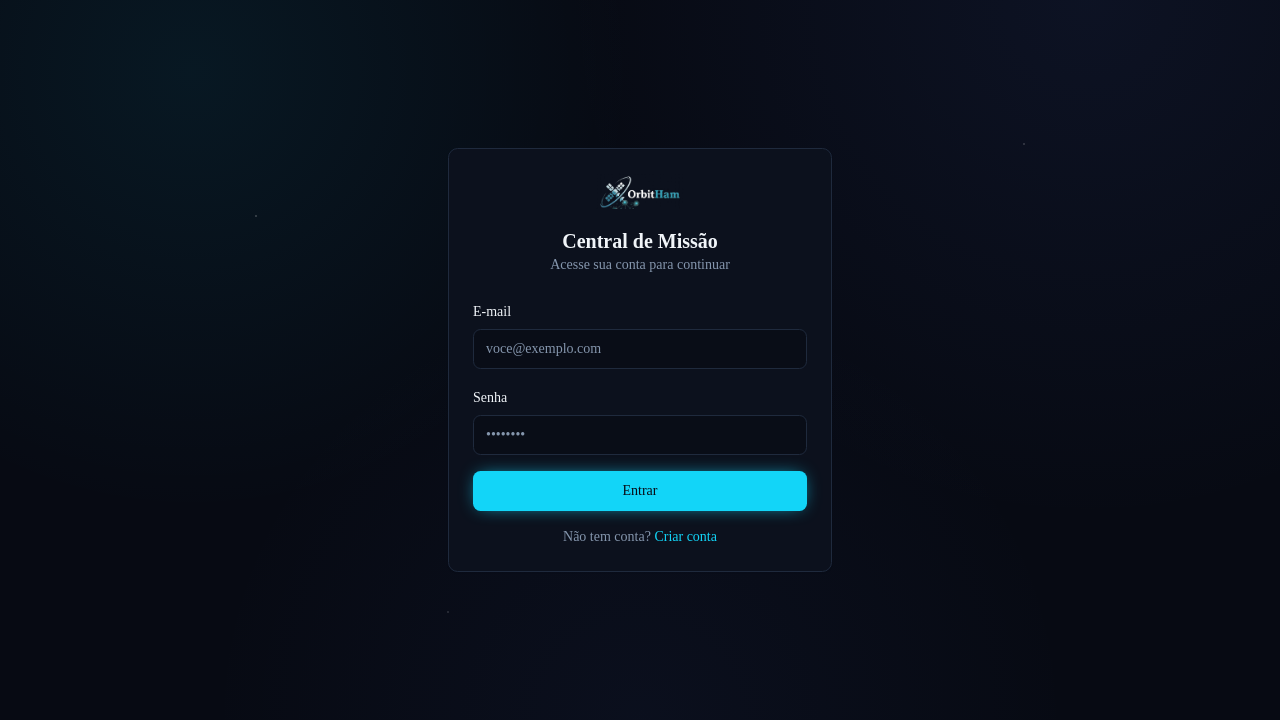
Test case: LoginPage › displays an error message when login fails
Step 1. Type "a@b.com" into the field labelled "E-mail" → (640, 349), box [473,329,807,369]
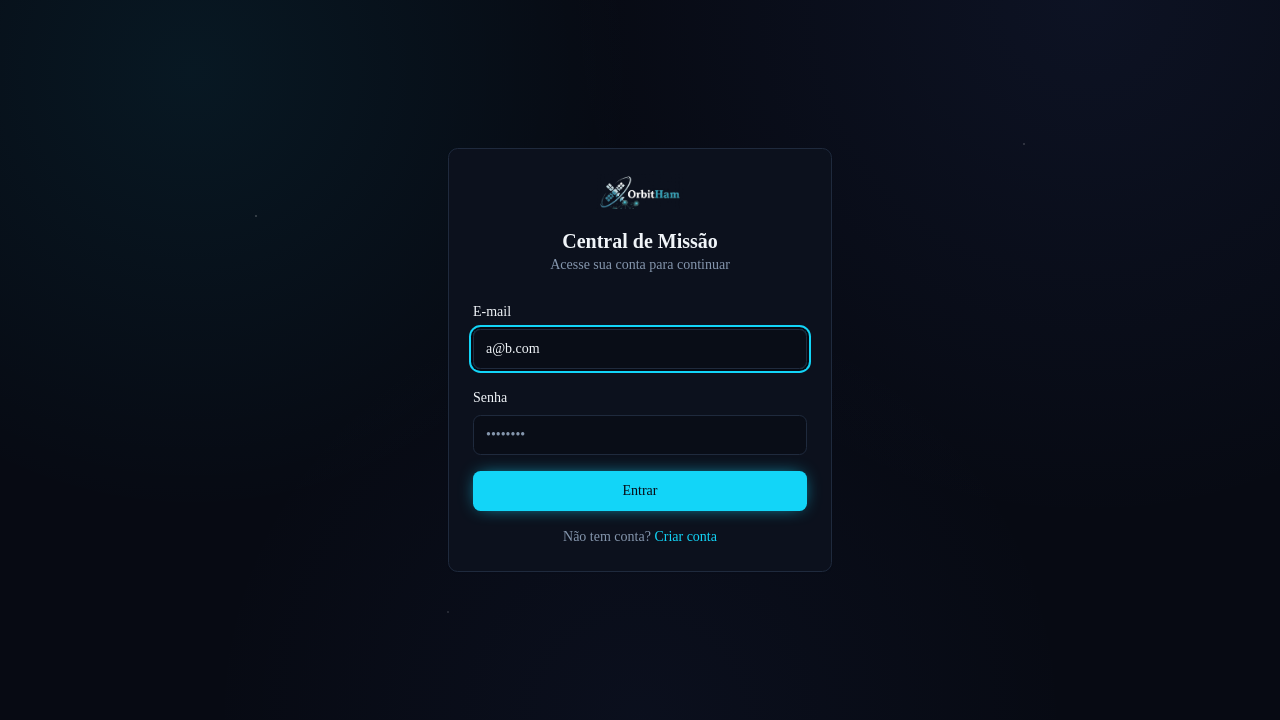
Step 2. Type "wrong" into the password field labelled "Senha" → (640, 435), box [473,415,807,455]
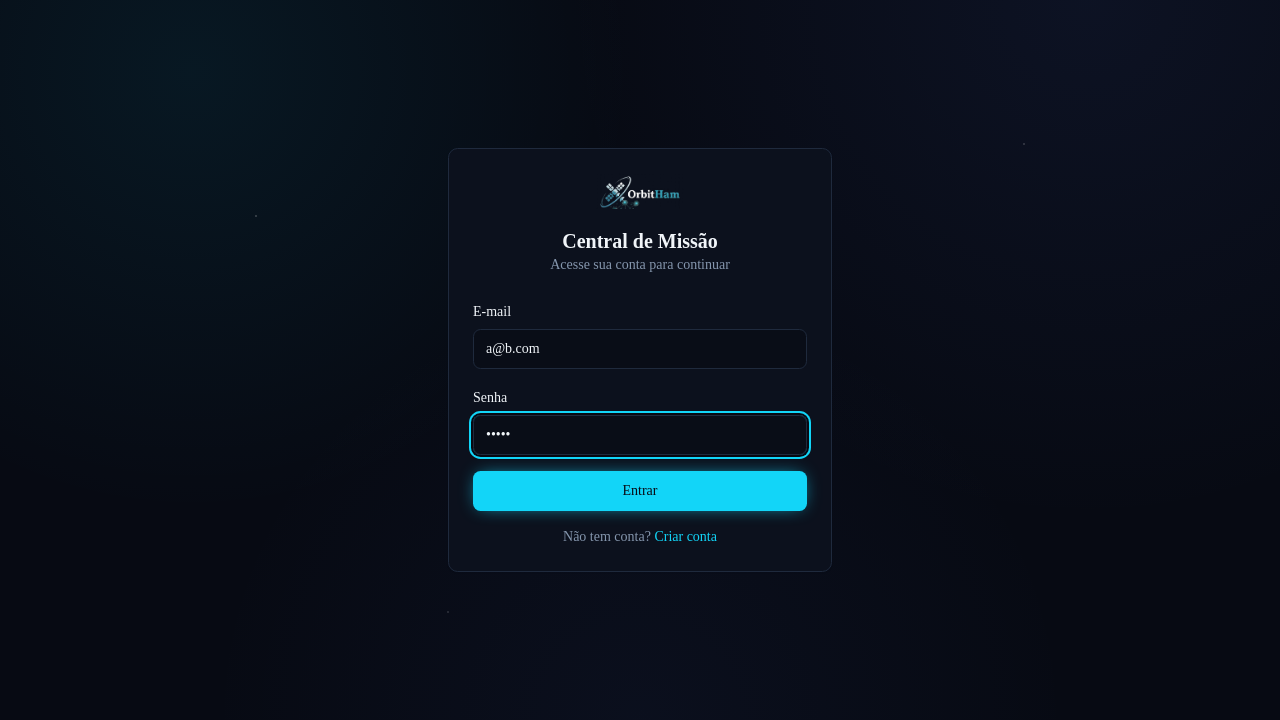
Step 3. Click the button "Entrar" → (640, 491), box [473,471,807,511]
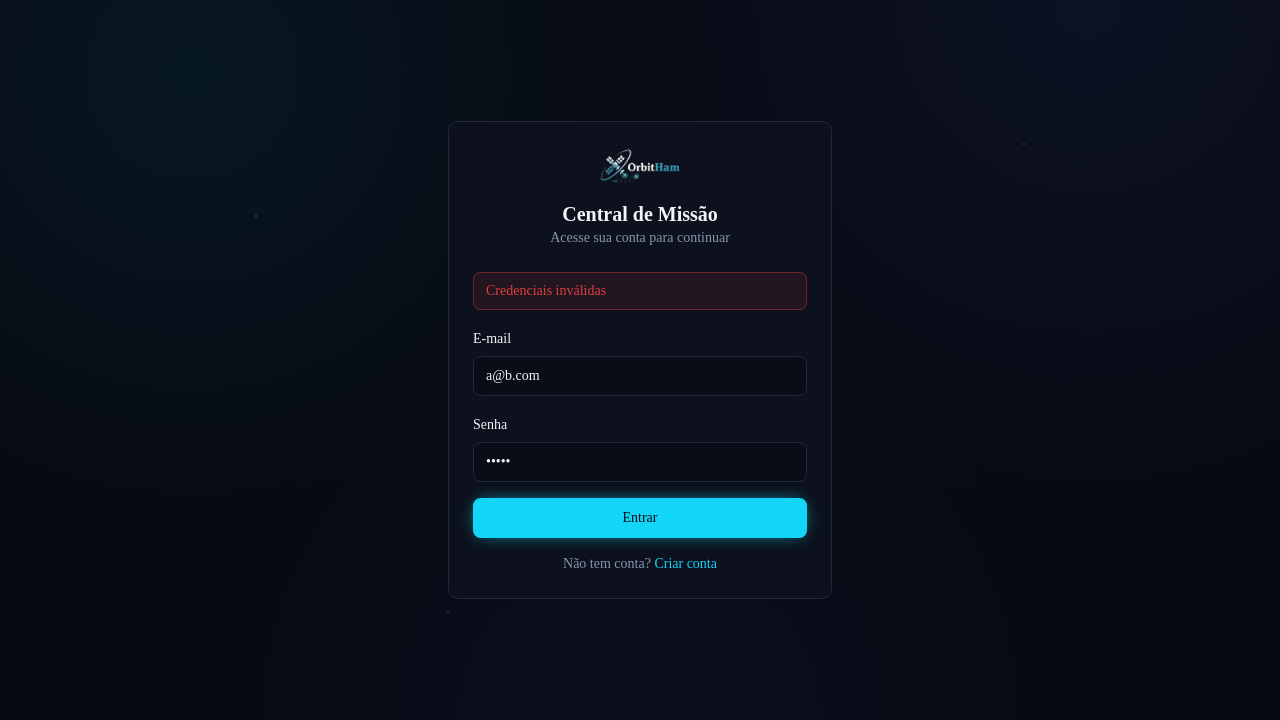
Result: the text "Credenciais inválidas" is shown at [473,272,807,310]
